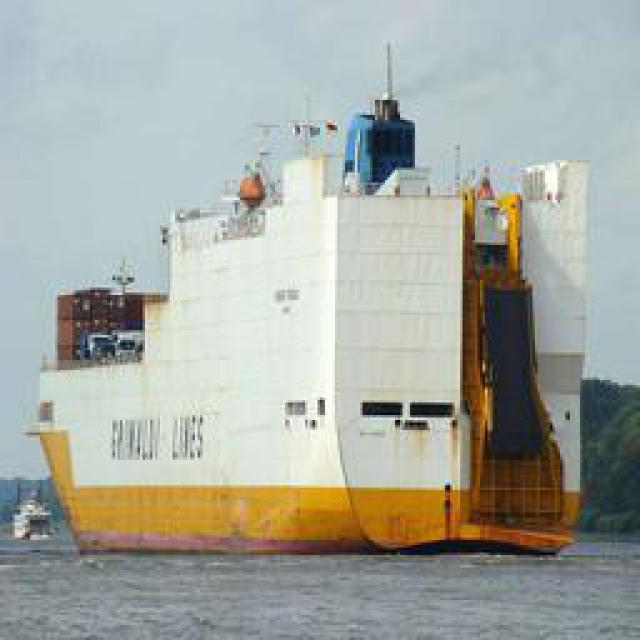Ship: (16, 35, 610, 561), (5, 478, 63, 550)
